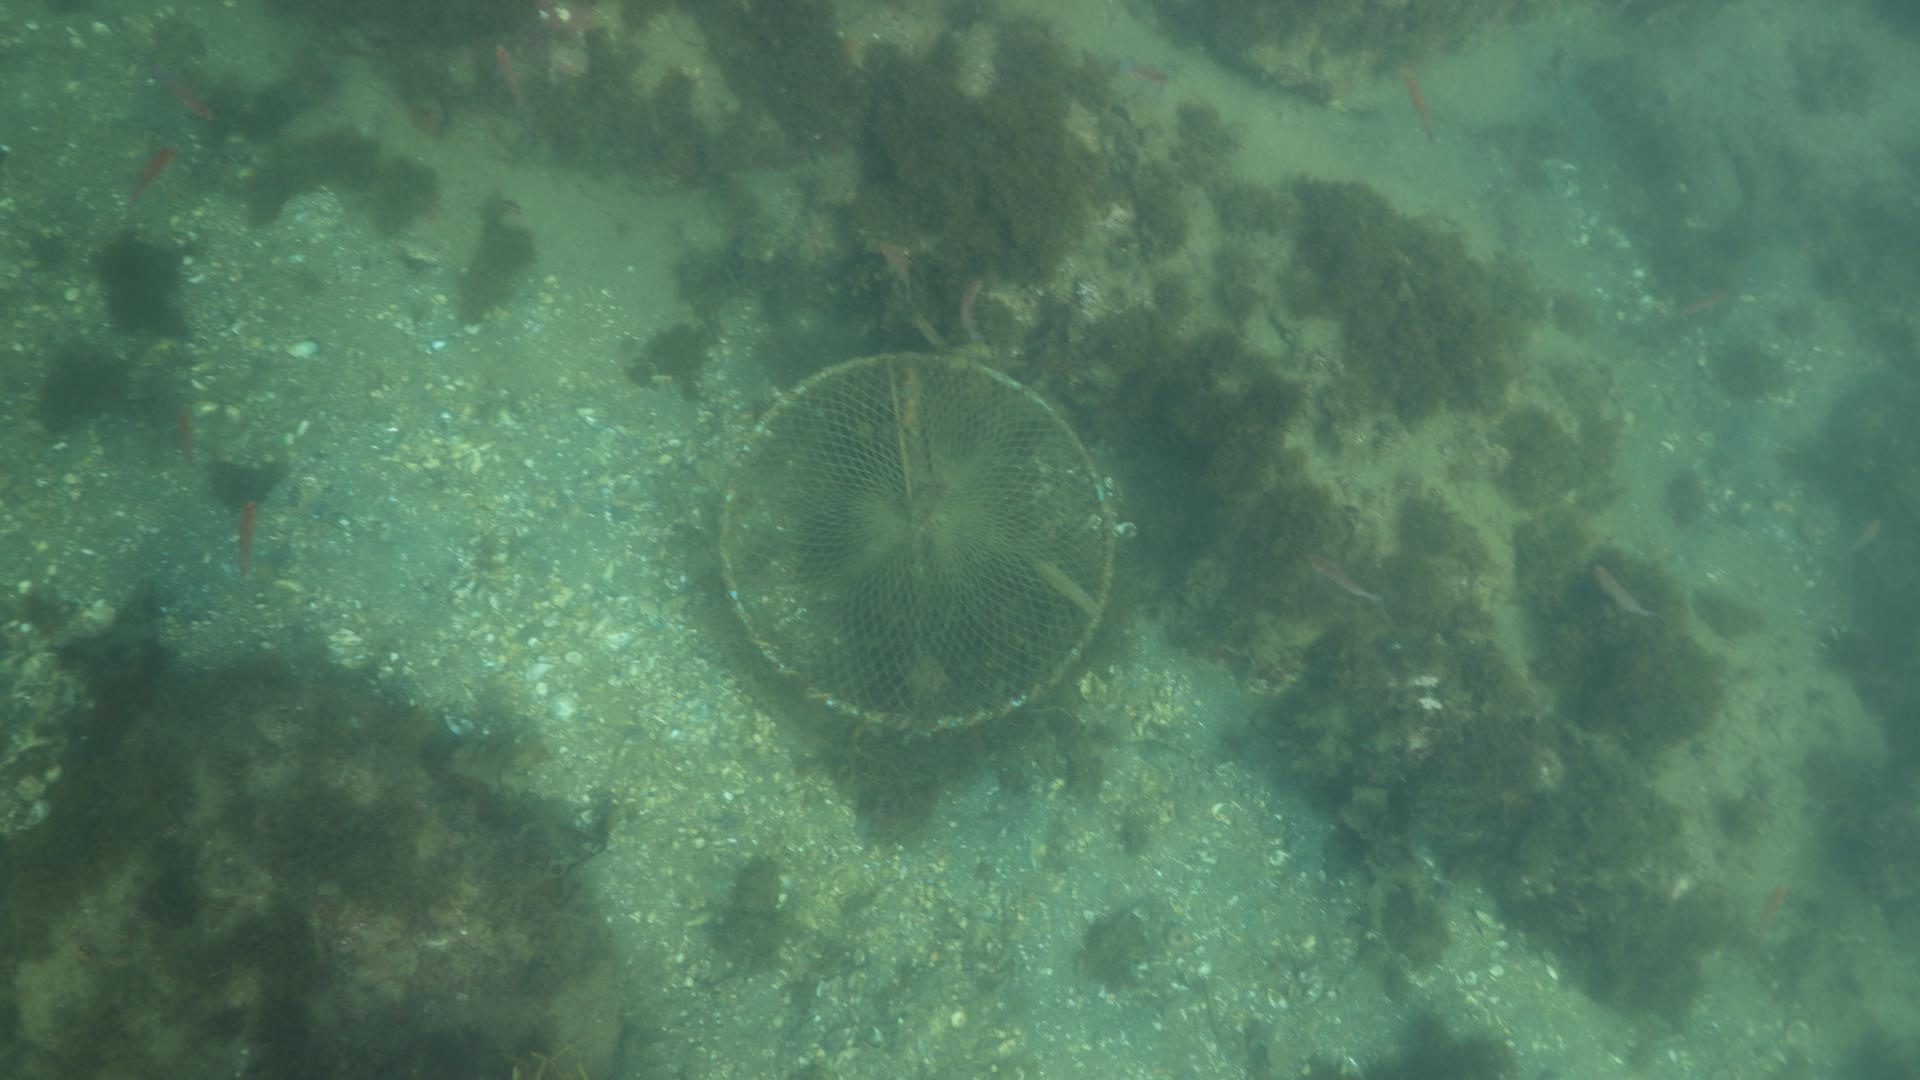circular fish trap: (713, 348, 1122, 735)
